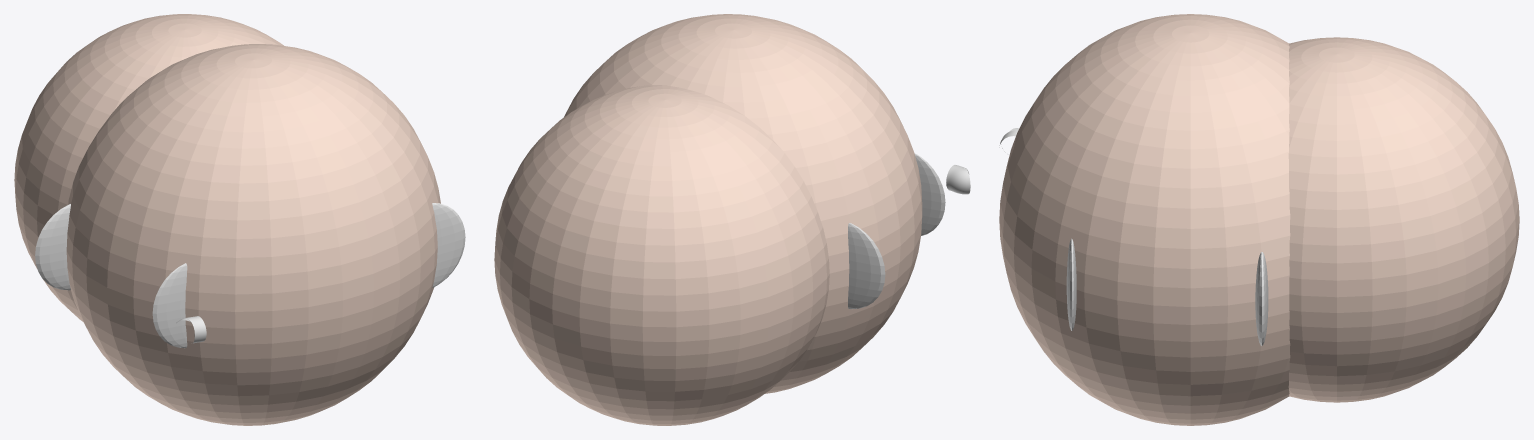
File: fetus_week_36.glb
3 renders of one model, left to right at view 1: azimuth 30°, elevation 25°; view 2: azimuth 150°, elevation 25°; view 3: azimuth 270°, elevation 25°, orthographic. The views are drawn at different scales.
Visible parts, largest first — view 1: fetal_body_w36, fetal_head_w36, leg_-1_w36, arm_-1_w36, leg_1_w36; view 2: fetal_head_w36, fetal_body_w36, arm_-1_w36, leg_-1_w36, BézierCurve; view 3: fetal_body_w36, fetal_head_w36, arm_1_w36, leg_1_w36.
Part boxes in pixels (<box>): fetal_body_w36: <box>66,44,440,425</box>; fetal_head_w36: <box>14,14,283,321</box>; leg_-1_w36: <box>152,263,187,348</box>; arm_-1_w36: <box>35,204,70,290</box>; leg_1_w36: <box>432,203,465,287</box>; fetal_head_w36: <box>494,85,829,425</box>; fetal_body_w36: <box>564,14,922,393</box>; arm_-1_w36: <box>848,223,885,309</box>; leg_-1_w36: <box>914,153,945,235</box>; BézierCurve: <box>946,165,970,194</box>; fetal_body_w36: <box>999,14,1290,425</box>; fetal_head_w36: <box>1288,37,1519,402</box>; arm_1_w36: <box>1255,252,1268,345</box>; leg_1_w36: <box>1066,238,1076,330</box>.
Bounding box in the file's own units: 0.258 × 0.2328 × 0.2938.
